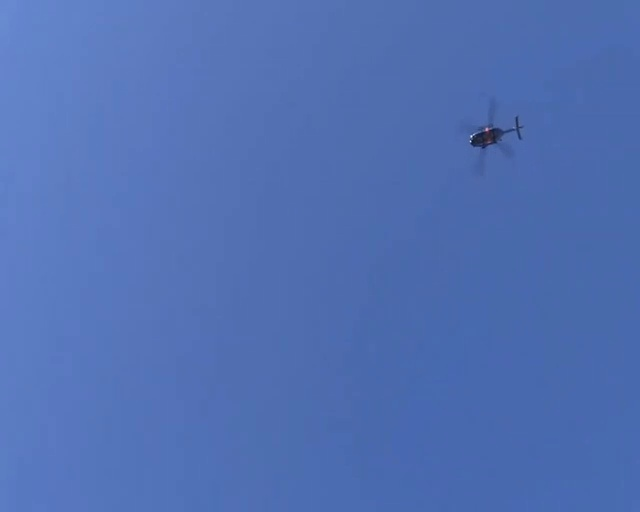HELICOPTER: (461, 94, 524, 150)
